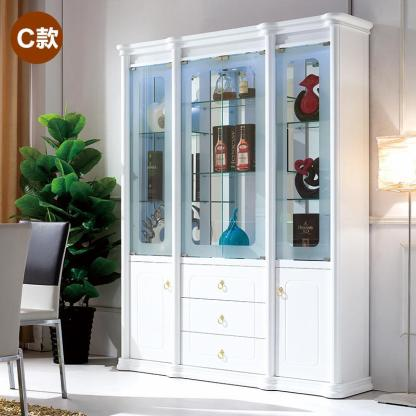Cupboard: (117, 13, 374, 400)
